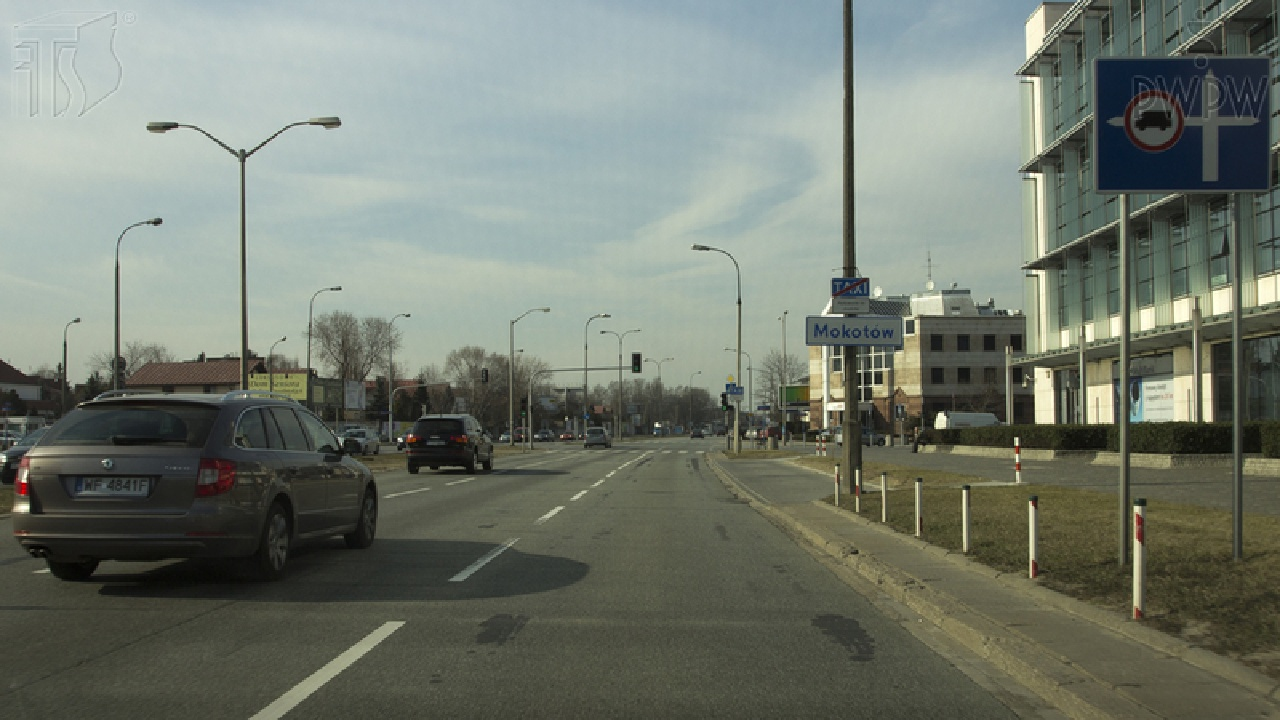B5: (1125, 90, 1184, 153)
